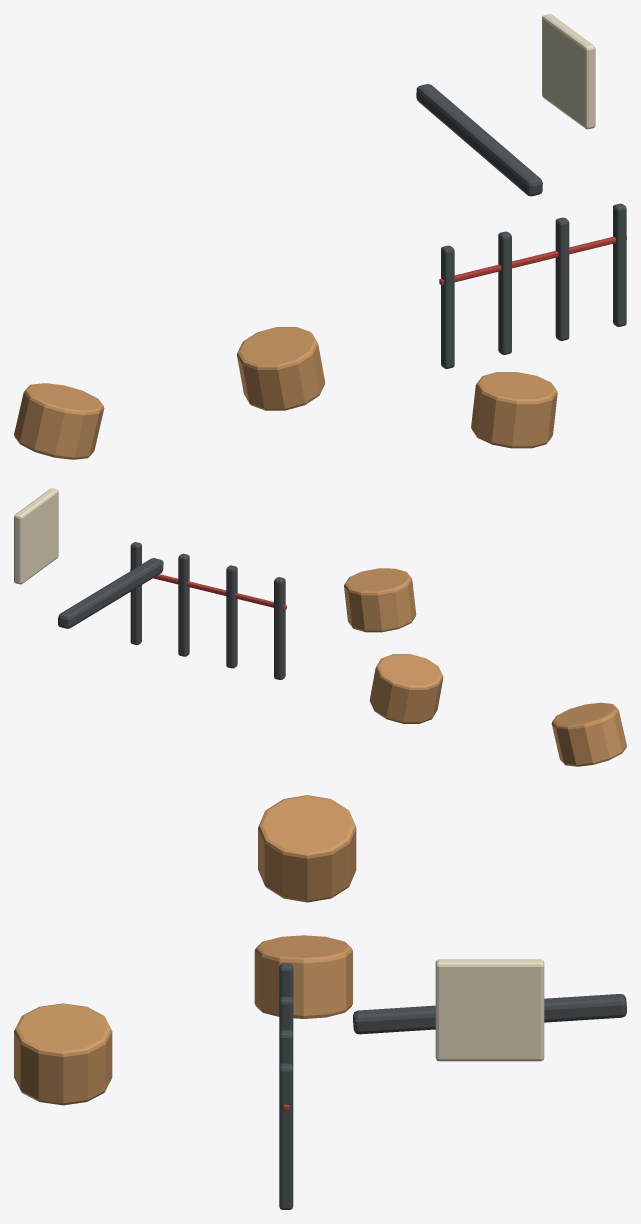
The model's file is state_food_shortage_v01.glb.
3 renders of one model, top to bottom at view 1: azimuth 30°, elevation 25°; view 2: azimuth 150°, elevation 25°; view 3: azimuth 270°, elevation 25°, orthographic. The views are drawn at different scales.
Parts seen in each view (by area): view 1: GEO_EmptyBasket.001, GEO_EmptyBasket.002, GEO_EmptyBasket, GEO_RationNotice, GEO_GranaryGuardBar, GEO_RationPost.002, GEO_RationPost, GEO_RationPost.001, GEO_RationPost.003, GEO_RationRope; view 2: GEO_EmptyBasket.001, GEO_EmptyBasket.002, GEO_EmptyBasket, GEO_RationNotice, GEO_GranaryGuardBar, GEO_RationPost.001, GEO_RationPost, GEO_RationPost.002, GEO_RationPost.003, GEO_RationRope; view 3: GEO_RationNotice, GEO_EmptyBasket, GEO_EmptyBasket.002, GEO_EmptyBasket.001, GEO_GranaryGuardBar, GEO_RationPost.003.
Boxes of the visible parts, x1=… form: GEO_EmptyBasket.001: x1=237, y1=327, x2=325, y2=410; GEO_EmptyBasket.002: x1=471, y1=372, x2=557, y2=448; GEO_EmptyBasket: x1=14, y1=383, x2=104, y2=459; GEO_RationNotice: x1=542, y1=14, x2=595, y2=129; GEO_GranaryGuardBar: x1=416, y1=84, x2=542, y2=196; GEO_RationPost.002: x1=555, y1=217, x2=569, y2=340; GEO_RationPost: x1=441, y1=245, x2=454, y2=368; GEO_RationPost.001: x1=498, y1=231, x2=511, y2=354; GEO_RationPost.003: x1=613, y1=203, x2=626, y2=326; GEO_RationRope: x1=439, y1=236, x2=626, y2=285; GEO_EmptyBasket.001: x1=369, y1=654, x2=443, y2=723; GEO_EmptyBasket.002: x1=344, y1=568, x2=416, y2=632; GEO_EmptyBasket: x1=551, y1=702, x2=626, y2=766; GEO_RationNotice: x1=14, y1=488, x2=58, y2=584; GEO_GranaryGuardBar: x1=58, y1=558, x2=163, y2=628; GEO_RationPost.001: x1=226, y1=565, x2=237, y2=668; GEO_RationPost: x1=274, y1=577, x2=285, y2=679; GEO_RationPost.002: x1=178, y1=553, x2=189, y2=656; GEO_RationPost.003: x1=130, y1=542, x2=141, y2=644; GEO_RationRope: x1=130, y1=569, x2=286, y2=610; GEO_RationNotice: x1=435, y1=959, x2=544, y2=1061; GEO_EmptyBasket: x1=258, y1=795, x2=356, y2=902; GEO_EmptyBasket.002: x1=14, y1=1003, x2=112, y2=1105; GEO_EmptyBasket.001: x1=254, y1=935, x2=352, y2=1018; GEO_GranaryGuardBar: x1=353, y1=994, x2=626, y2=1034; GEO_RationPost.003: x1=279, y1=1063, x2=293, y2=1209.
Bounding box in the file's own units: 4.95 × 1.68 × 3.49.
